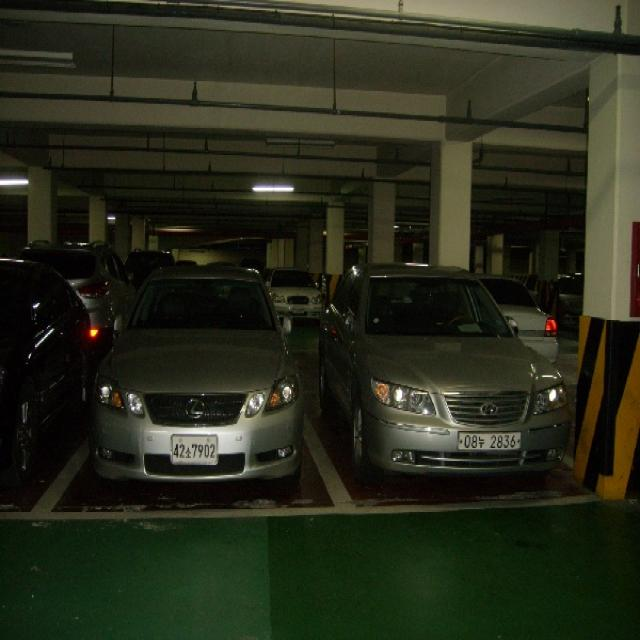occupied: (76, 248, 335, 502), (312, 266, 600, 488)
